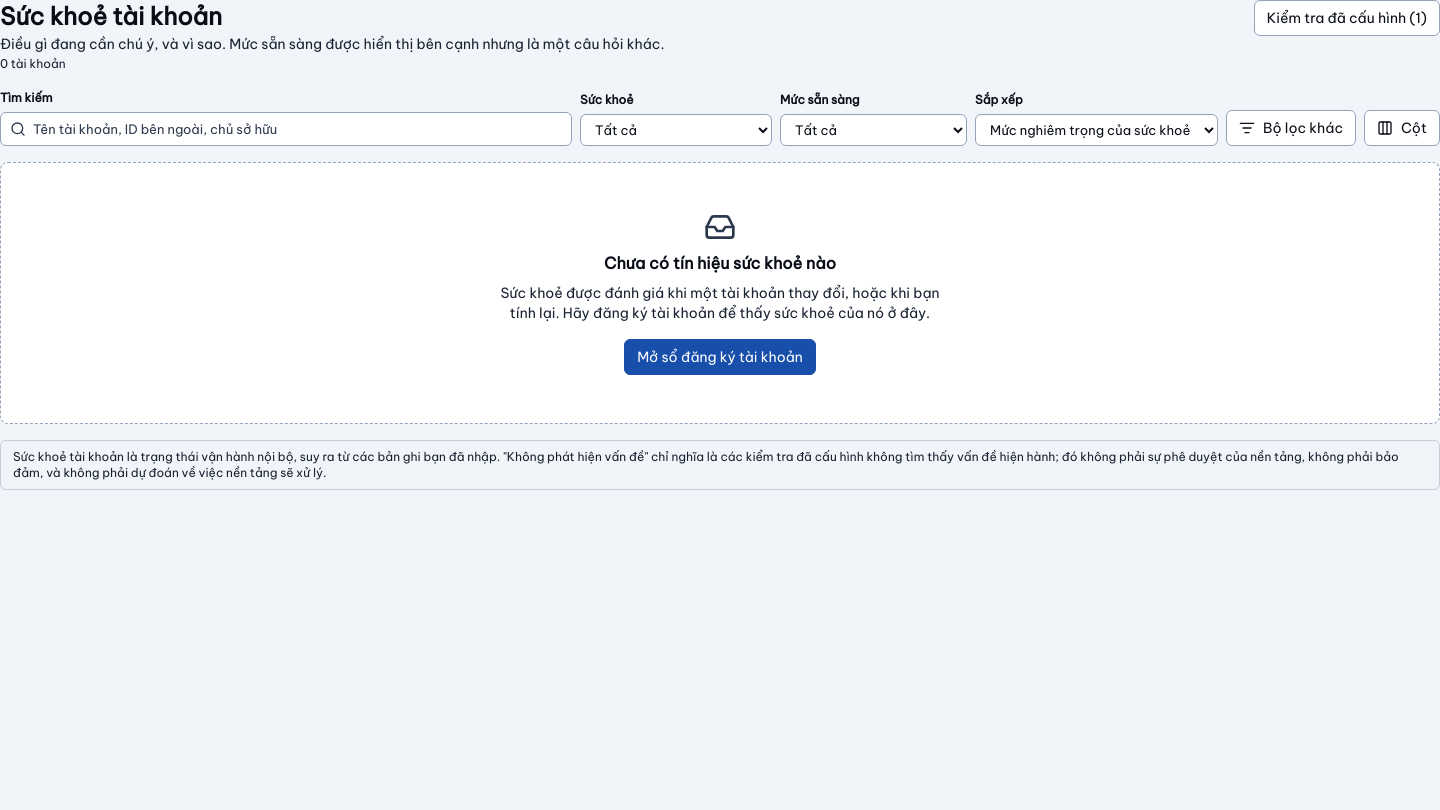
it: Account health list › turns a check off only after an AlertDialog, and reads the rule list back
Click the button "Kiểm tra đã cấu hình (1)" at (1347, 18), box x1=1254 y1=0 x2=1439 y2=36
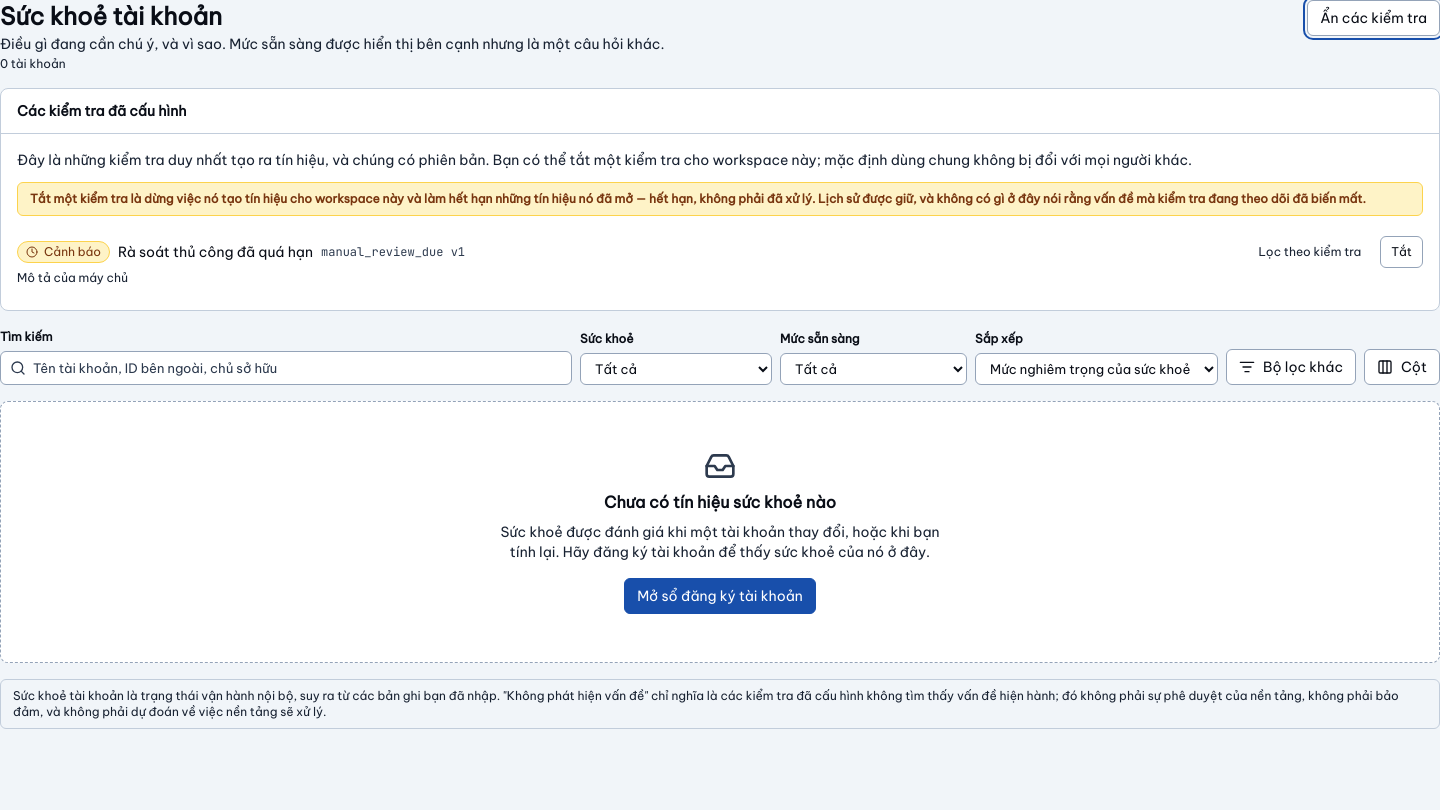
Click the button with aria-label "Tắt: Rà soát thủ công đã quá hạn" at (1402, 252), box x1=1380 y1=236 x2=1423 y2=268
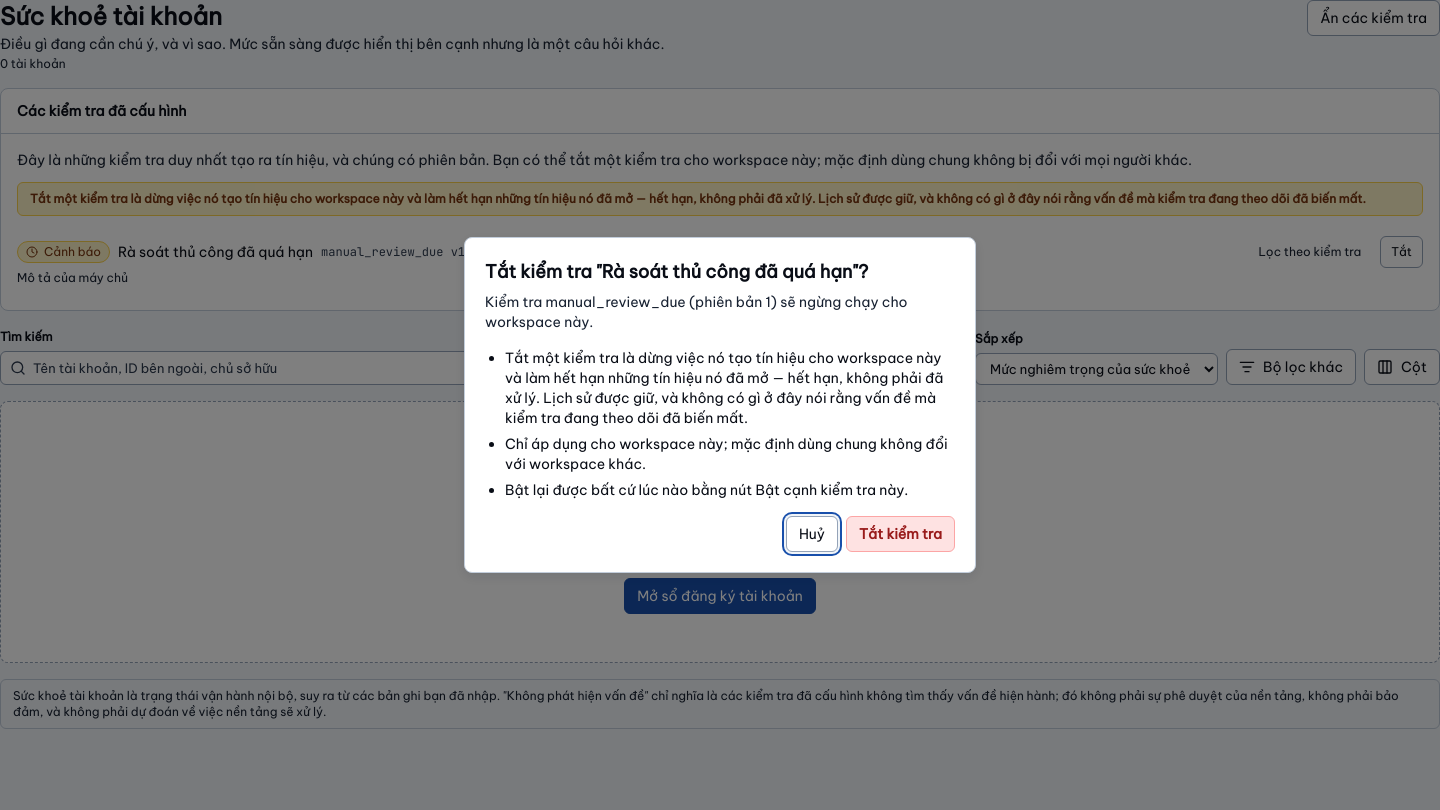
Check: the dialog shows "hết hạn, không phải đã xử lý", box x1=505 y1=349 x2=943 y2=427
Check: the dialog shows "Bật lại được bất cứ lúc nào", box x1=505 y1=481 x2=908 y2=499
Click the button "Tắt kiểm tra" at (900, 534), box x1=846 y1=516 x2=955 y2=552
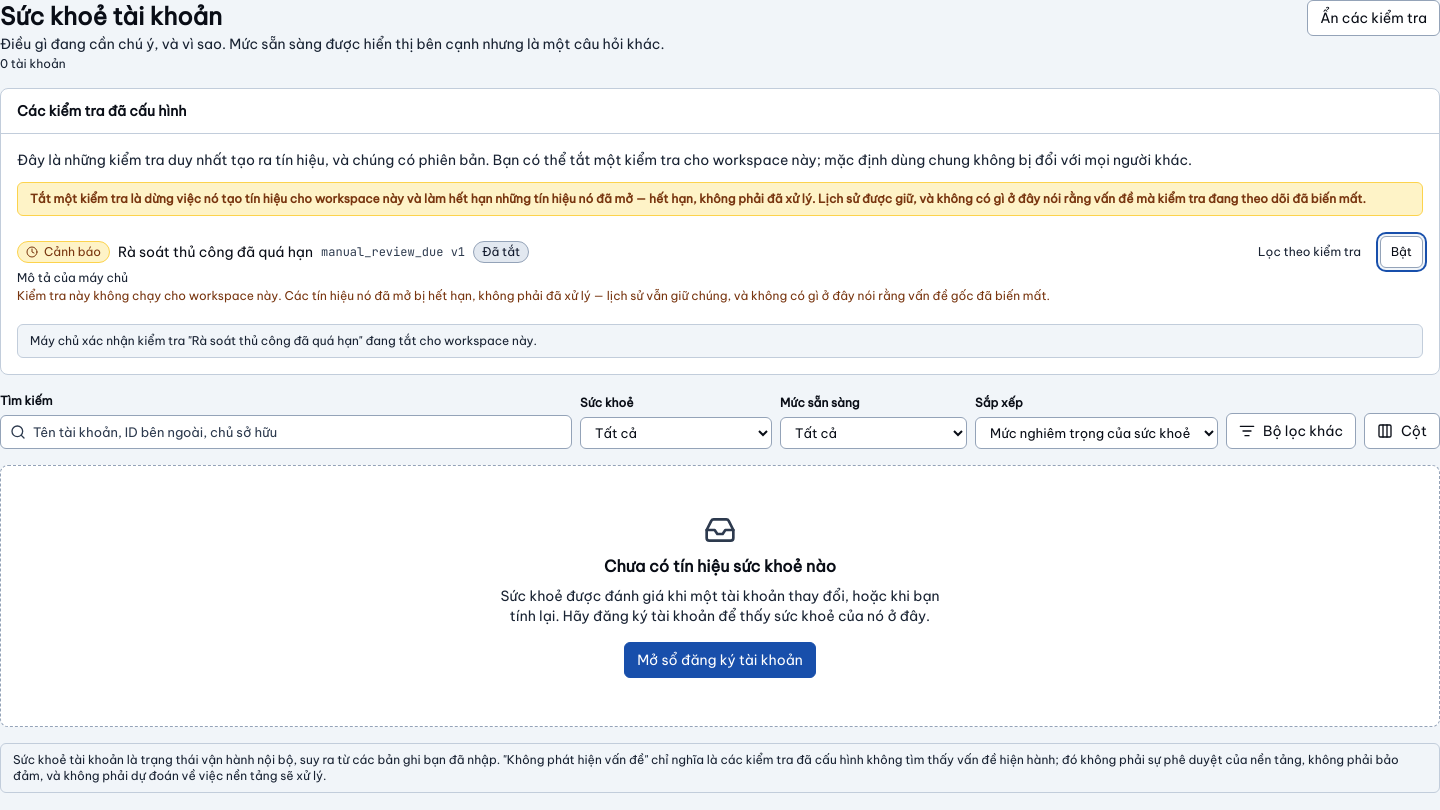
Check: the text "hết hạn, không phải đã xử lý — lịch sử vẫn giữ chúng" is shown, box x1=17 y1=288 x2=1050 y2=303
